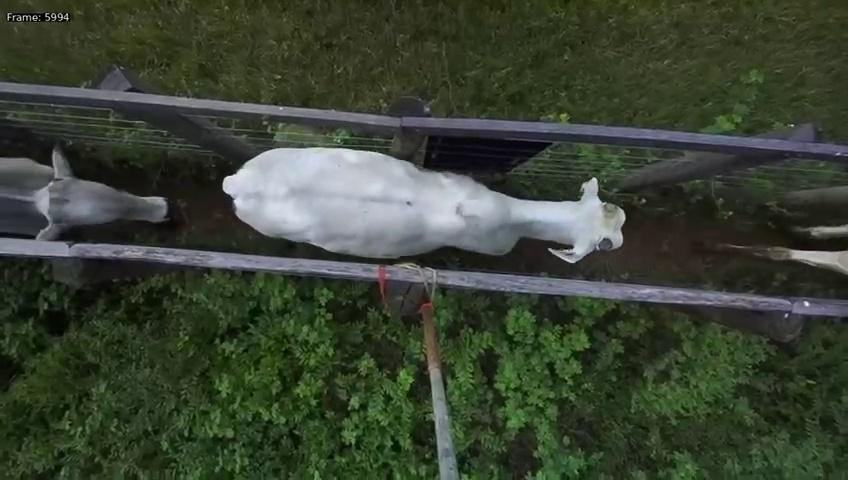cattle: (220, 129, 630, 264)
